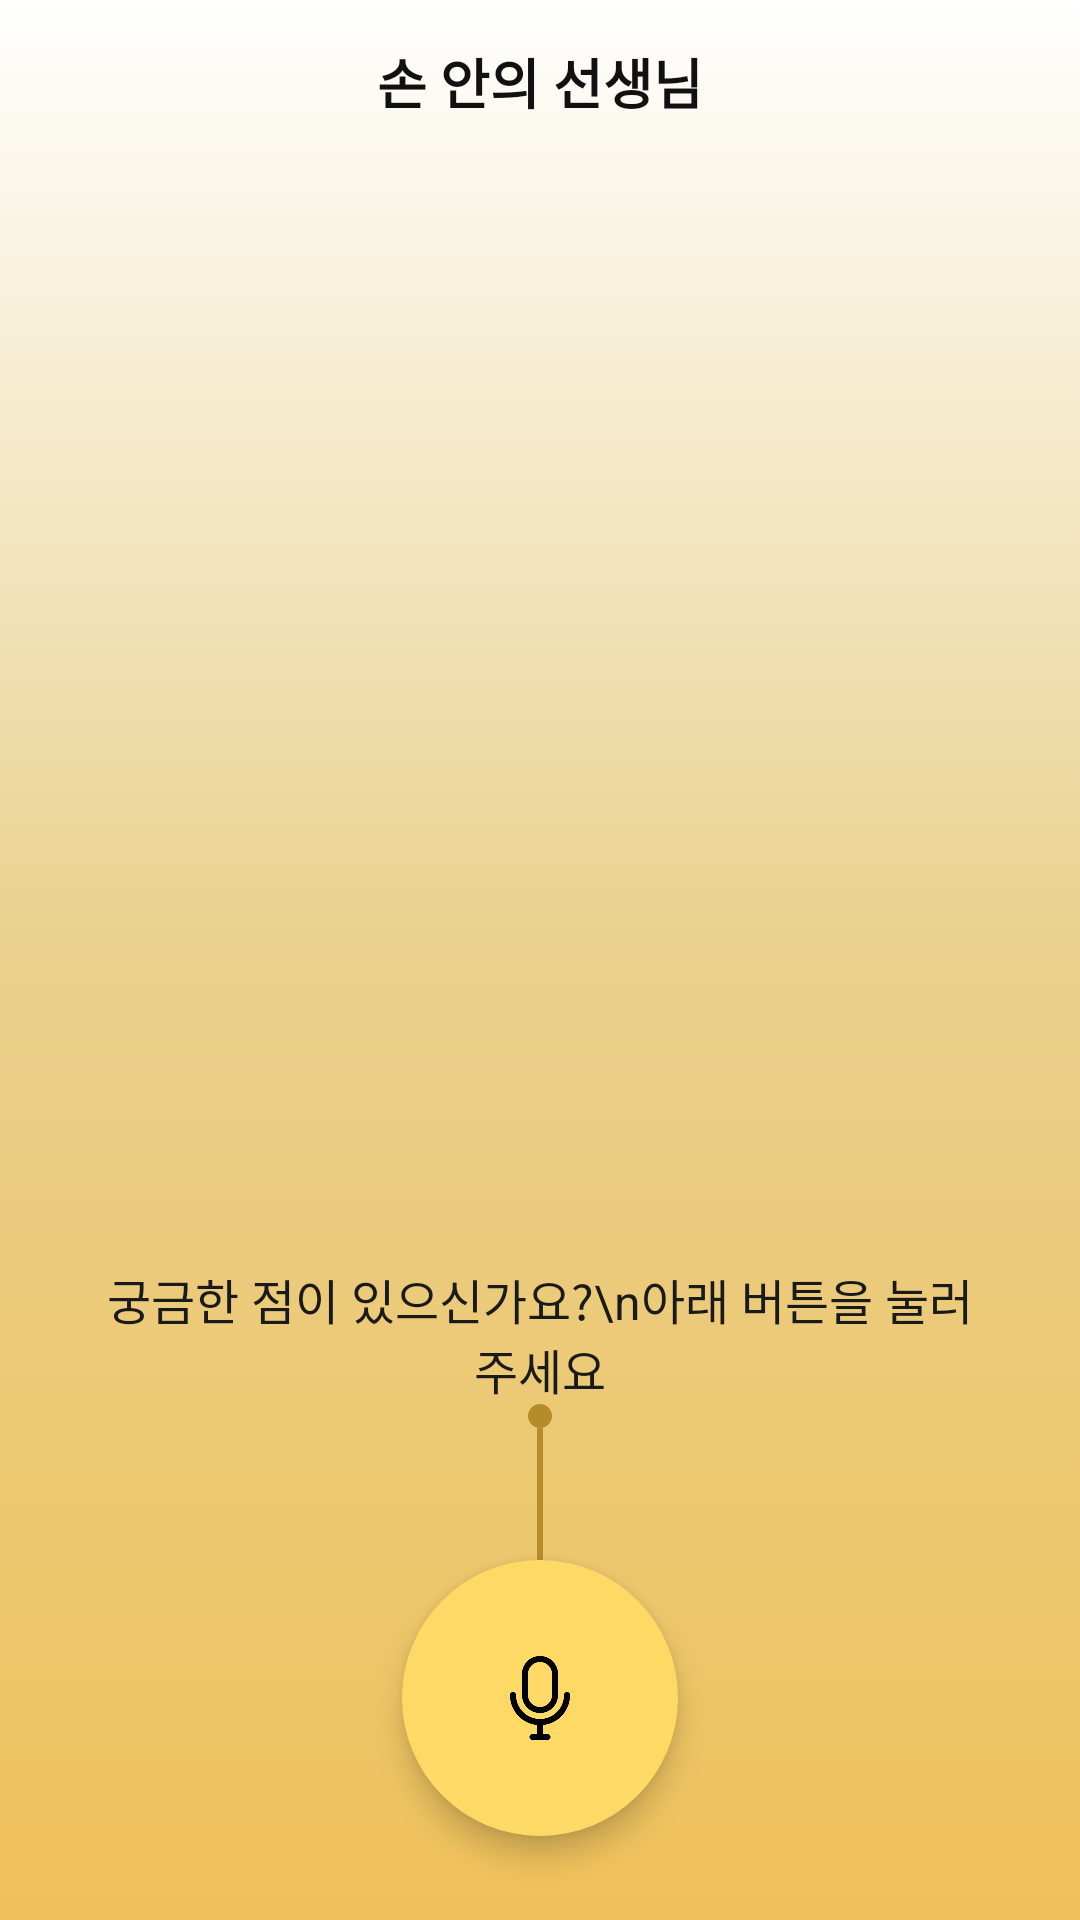

Where icons sit on this 1080×1920 app screen, as (x1,y1,x2,y2):
보이스 버튼: (510,1656,570,1740)
